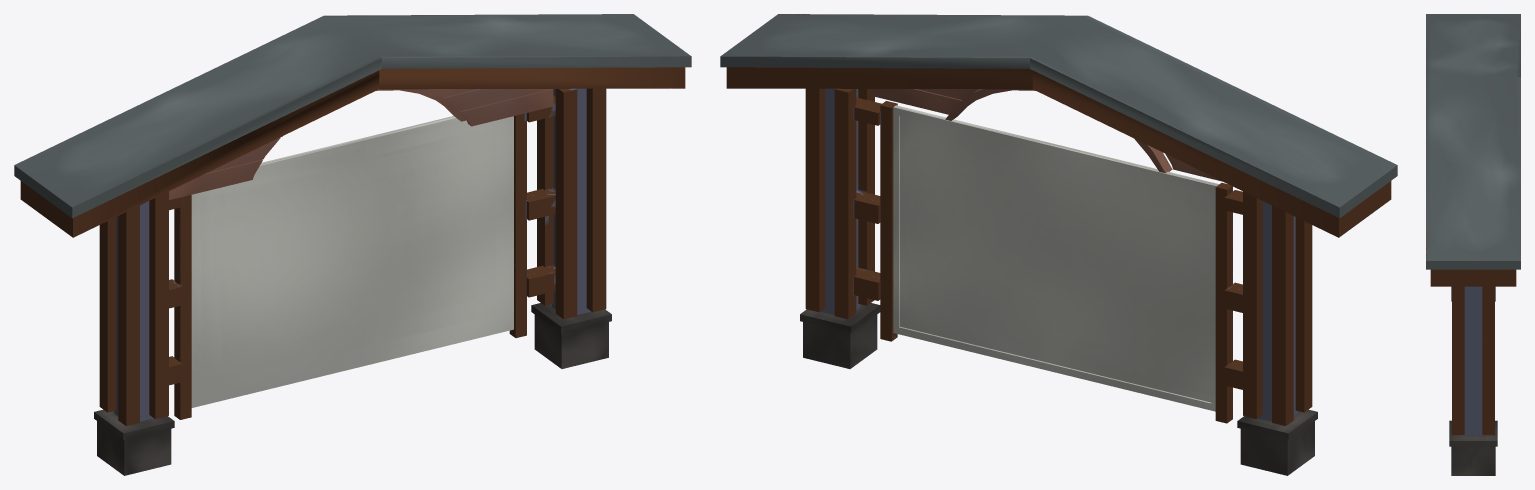
File: Questboard.fbx
3 renders of one model, left to right at view 1: azimuth 30°, elevation 25°; view 2: azimuth 150°, elevation 25°; view 3: azimuth 270°, elevation 25°, orthographic. The views are drawn at different scales.
Parts seen in each view (by area): view 1: Cube.011; view 2: Cube.011; view 3: Cube.011.
Boxes of the visible parts, left/top/right/bottom form: Cube.011: left=14, top=14, right=691, bottom=475; Cube.011: left=720, top=14, right=1397, bottom=475; Cube.011: left=1426, top=14, right=1520, bottom=475.
Size of the model in its own units: 1.16 by 7.14 by 4.07.
1 material, 1 textured.
